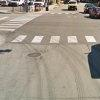Crosswalk: (8, 28, 99, 54)
